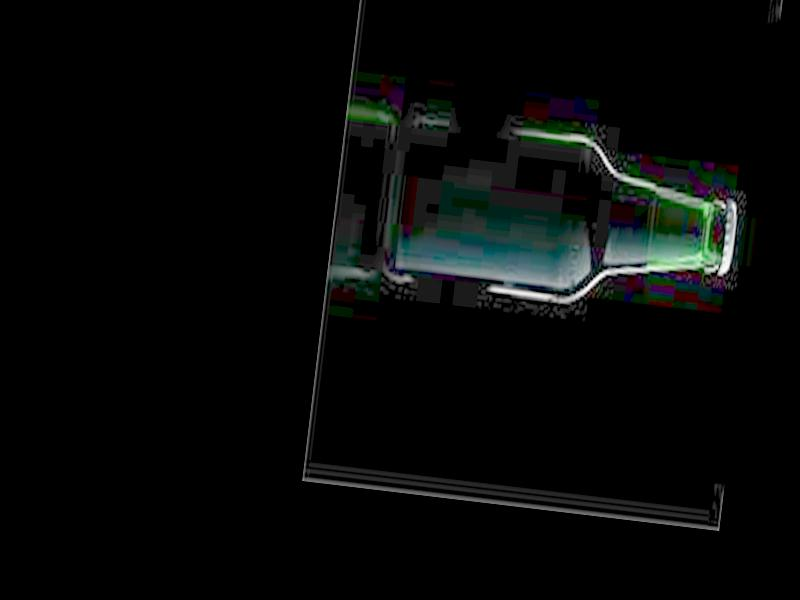Beer: (384, 114, 745, 328)
